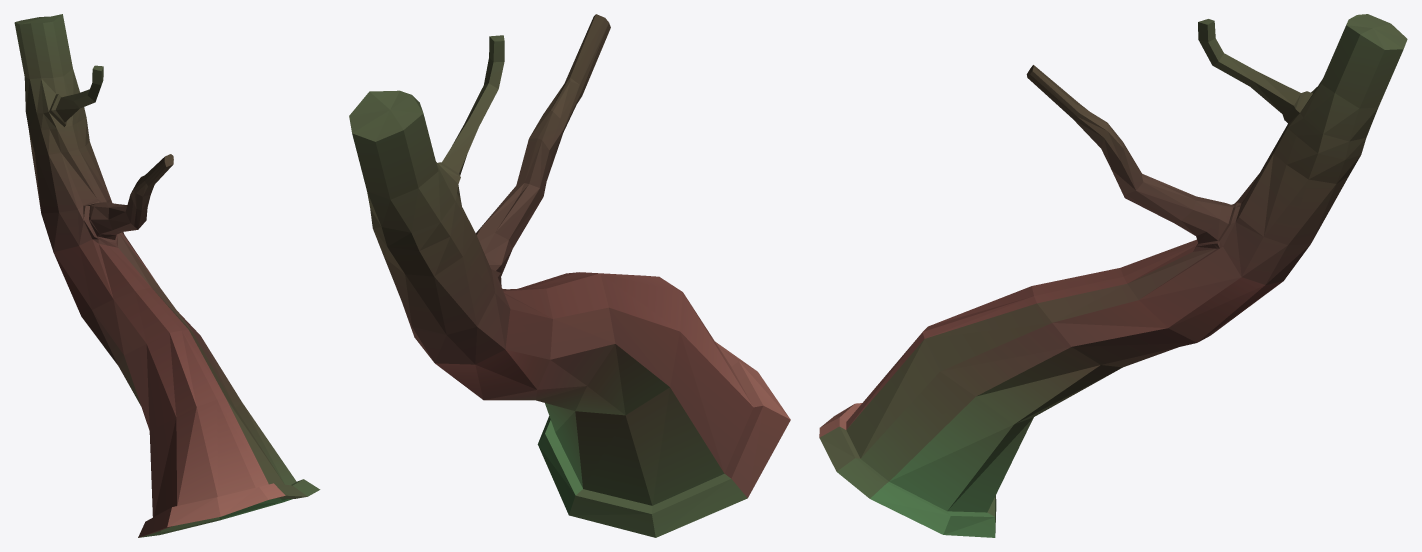
File: Level2_LooseTree_2.fbx
3 renders of one model, left to right at view 1: azimuth 30°, elevation 25°; view 2: azimuth 150°, elevation 25°; view 3: azimuth 270°, elevation 25°, orthographic. The views are drawn at different scales.
Visible parts, largest first — view 1: LooseTree_2; view 2: LooseTree_2; view 3: LooseTree_2.
Boxes of the visible parts, x1,y1,x2,y2 form: LooseTree_2: (14, 14, 320, 537); LooseTree_2: (349, 14, 790, 537); LooseTree_2: (819, 14, 1407, 537).
Size of the model in its own units: 4.27 by 11.53 by 10.77.
